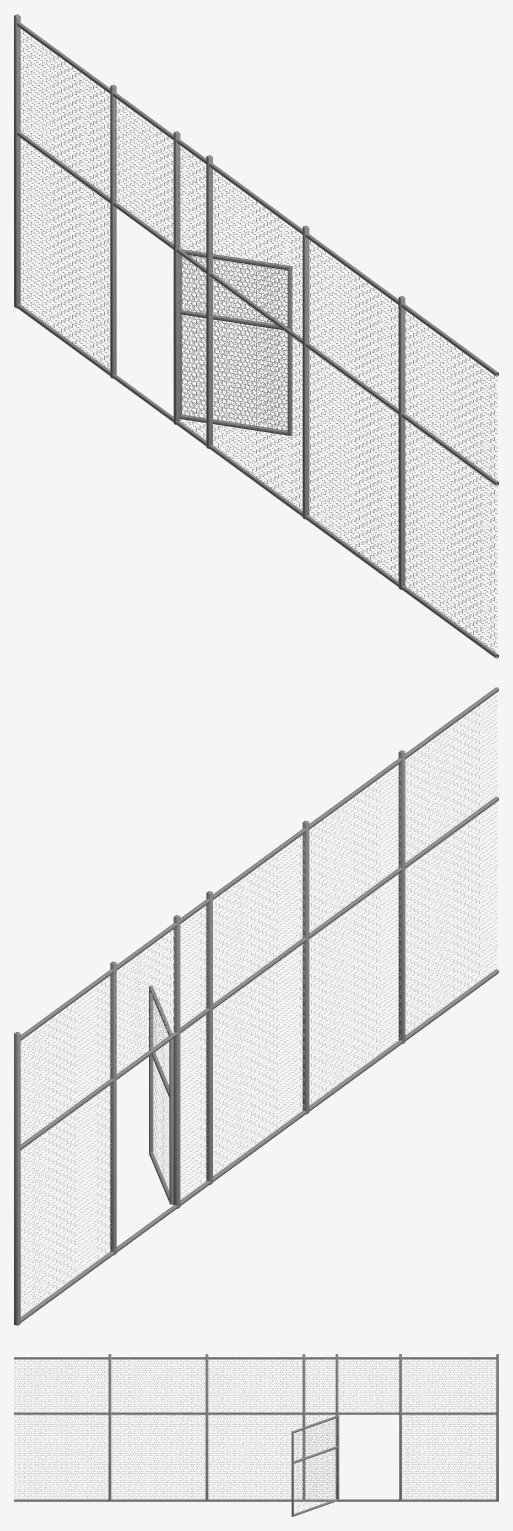
Rendered from FenceMetal01_3.FBX.
The picture shows the model from 3 angles, top to bottom: view 1: azimuth 30°, elevation 25°; view 2: azimuth 150°, elevation 25°; view 3: azimuth 270°, elevation 25°; orthographic projection. The views are drawn at different scales.
Parts seen in each view (by area): view 1: fence, FenceMetal01; view 2: fence, FenceMetal01; view 3: fence, FenceMetal01.
Boxes of the visible parts, x1,y1,x2,y2 form: fence: (18, 30, 497, 655); FenceMetal01: (14, 14, 498, 658); fence: (20, 695, 497, 1317); FenceMetal01: (14, 687, 498, 1325); fence: (14, 1359, 495, 1513); FenceMetal01: (14, 1354, 498, 1516).
Bounding box in the file's own units: 21.69 × 81.94 × 245.
